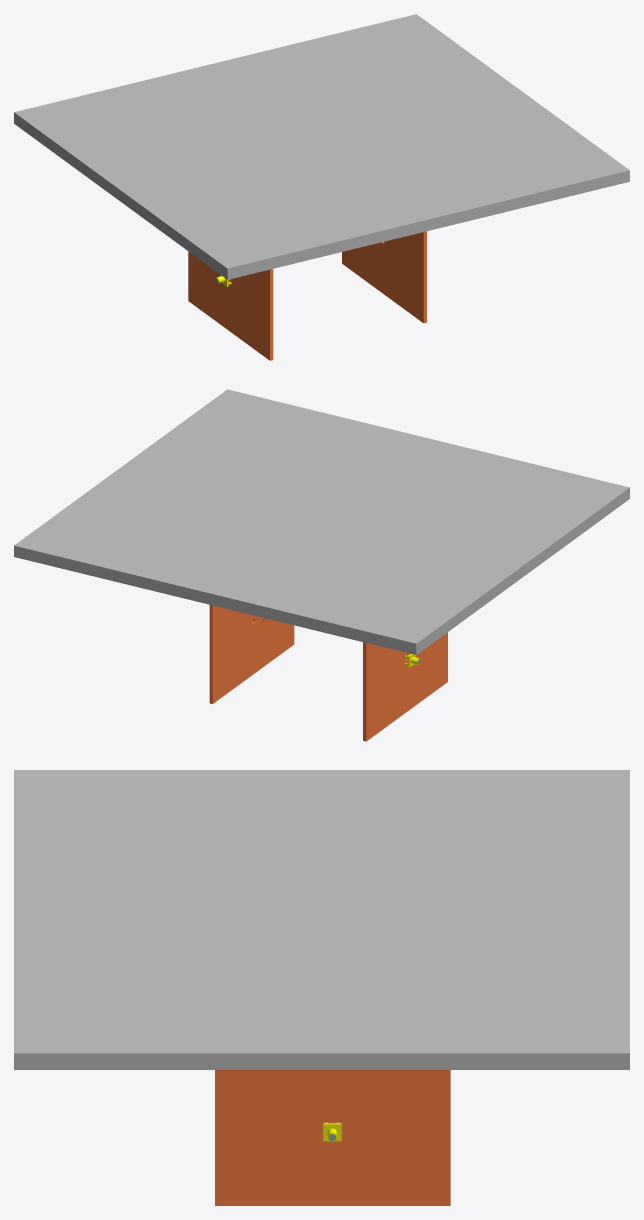
The model's file is AcopElect.glb.
The picture shows the model from 3 angles, top to bottom: view 1: azimuth 30°, elevation 25°; view 2: azimuth 150°, elevation 25°; view 3: azimuth 270°, elevation 25°; orthographic projection. The views are drawn at different scales.
Parts seen in each view (by area): view 1: COMPOUND006, COMPOUND009, COMPOUND008; view 2: COMPOUND006, COMPOUND009, COMPOUND008; view 3: COMPOUND006, COMPOUND008.
Boxes of the visible parts, x1,y1,x2,y2 form: COMPOUND006: (14, 14, 629, 279); COMPOUND009: (188, 251, 273, 360); COMPOUND008: (342, 231, 426, 323); COMPOUND006: (14, 389, 629, 654); COMPOUND009: (363, 632, 447, 741); COMPOUND008: (209, 605, 294, 703); COMPOUND006: (14, 770, 629, 1069); COMPOUND008: (215, 1070, 450, 1205).
Size of the model in its own units: 0.37 by 0.15 by 0.34.
